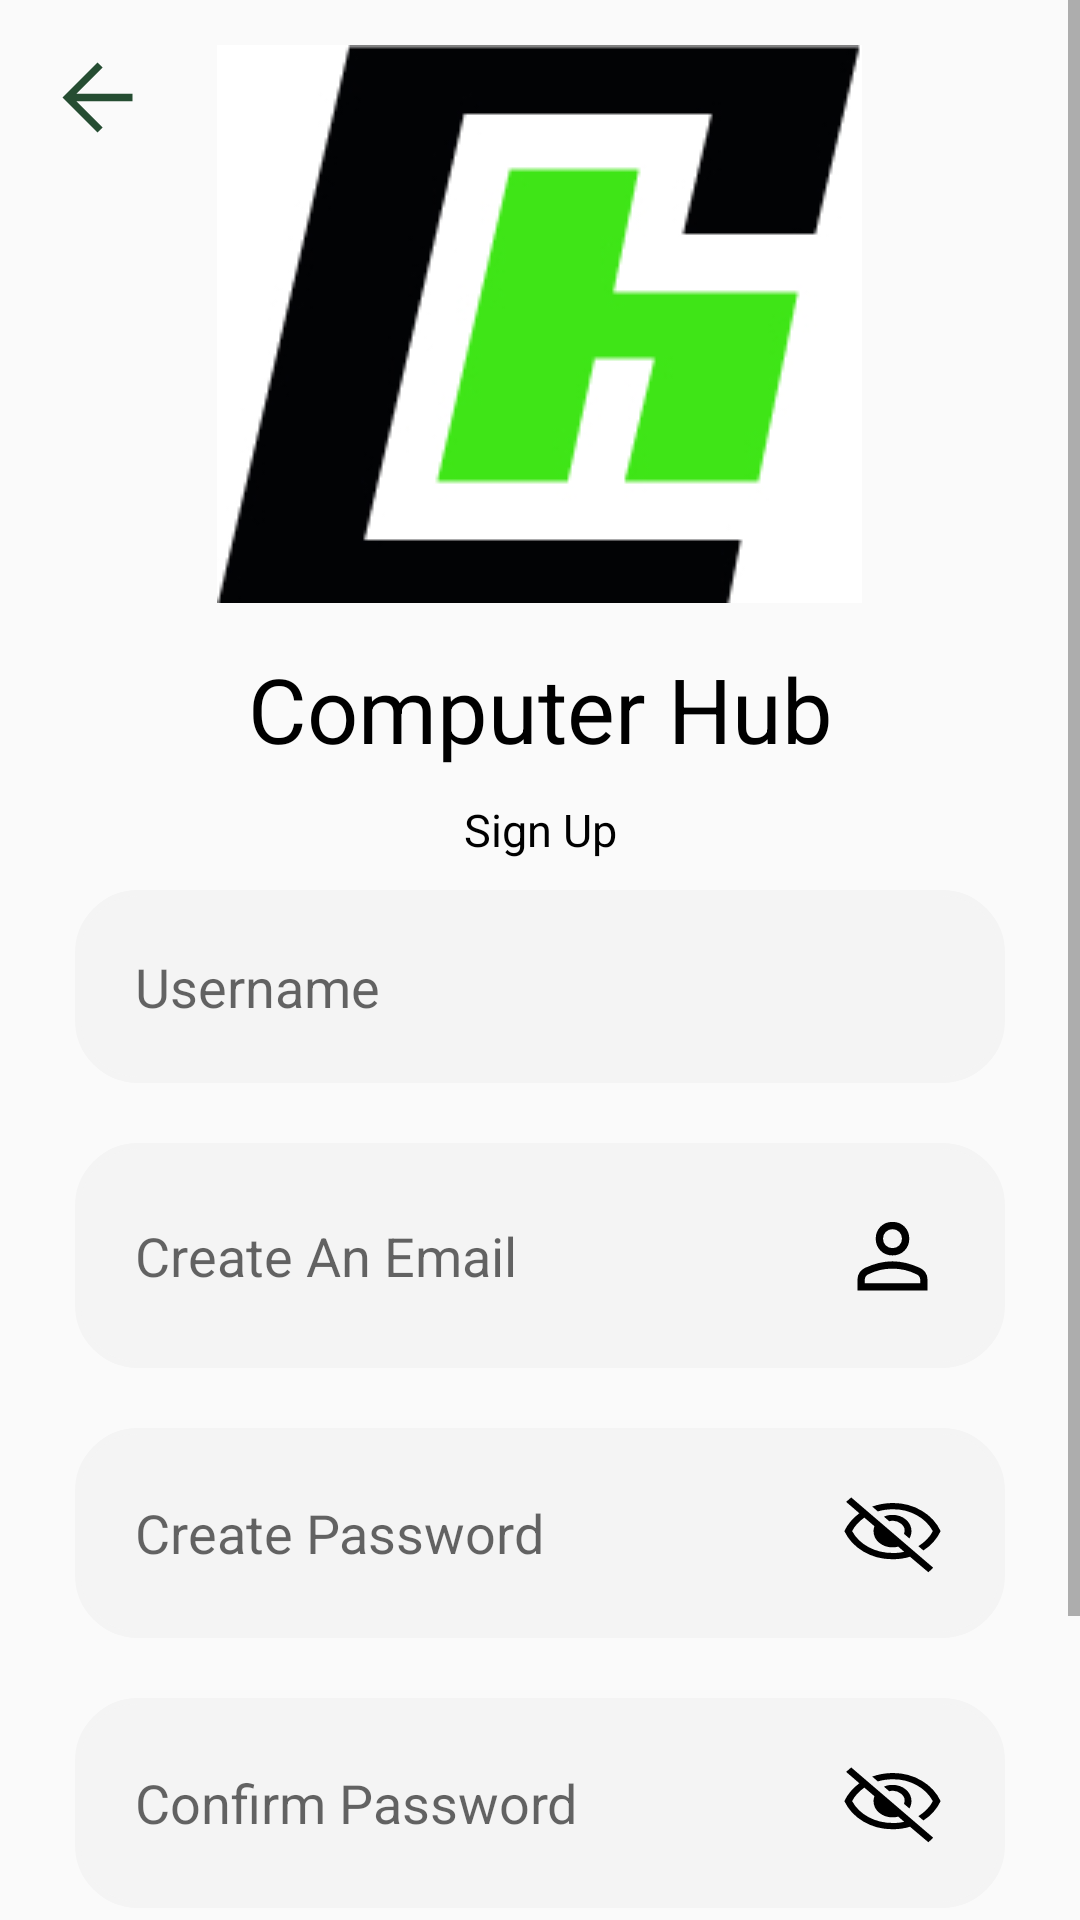

Icon click points for this 1080 x 1920 phone screenshot, format [x,y]:
arrow back: [97,97]
